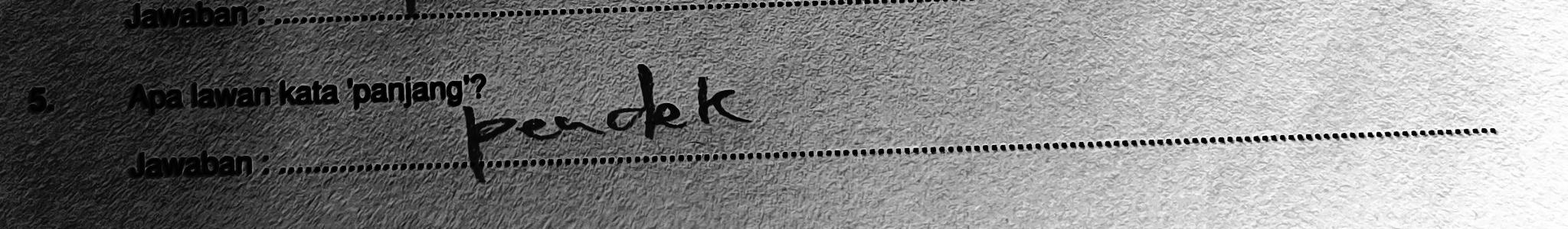jawaban: (453, 61, 756, 166)
